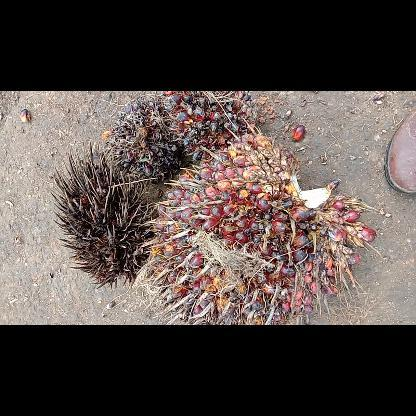Janjang kosong: (47, 138, 157, 289)
TBS abnormal: (161, 91, 263, 164), (104, 95, 182, 183)
TBS masak: (131, 130, 378, 324)
